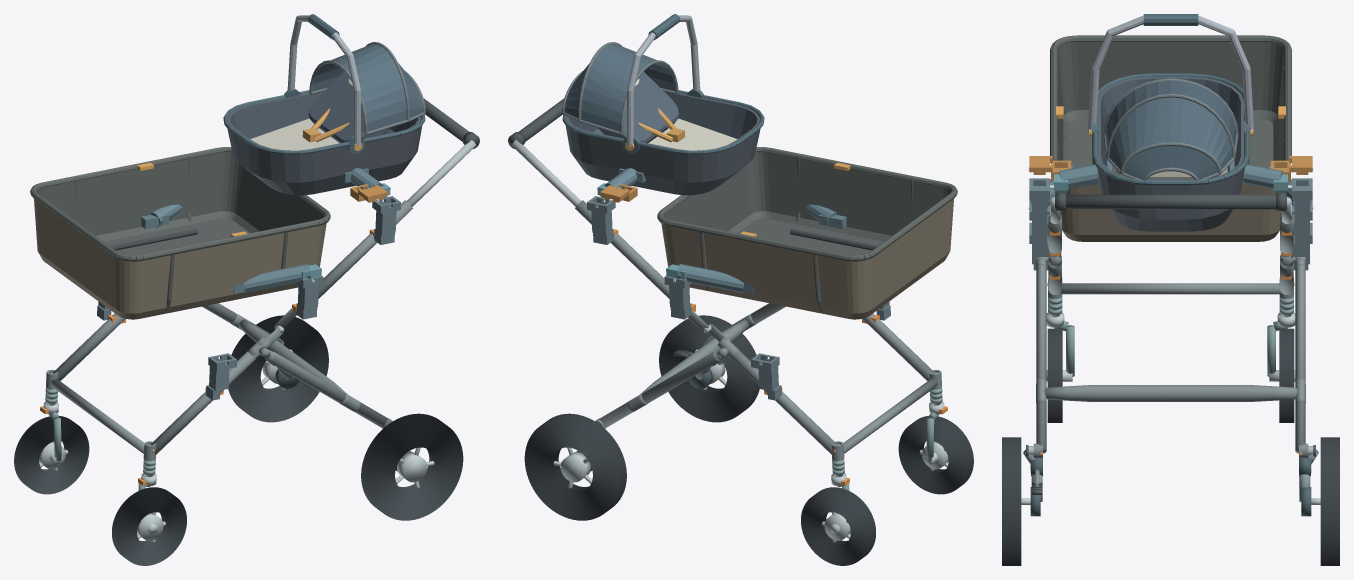
Rendered from D19_w650_state1_wheel_M.glb.
3 renders of one model, left to right at view 1: azimuth 30°, elevation 25°; view 2: azimuth 150°, elevation 25°; view 3: azimuth 270°, elevation 25°, orthographic. The views are drawn at different scales.
Visible parts, largest first — view 1: D19_Lower, D19_Upper, RL_tire.008, RR_tire.008, FL_tire.008, FR_tire.008, D19_Lower_Mount_M, V46_rear_leg_-1.009, main_lower_-1.009, front_fixed_round_tube.008, main_upper_-1.009, Universal_Cabin_Receiver_H_-1 (+7 smaller); view 2: D19_Lower, D19_Upper, RR_tire.008, RL_tire.008, FR_tire.008, FL_tire.008, D19_Lower_Mount_M, V46_rear_leg_1.009, main_lower_1.009, front_fixed_round_tube.008, main_upper_1.009, Universal_Cabin_Receiver_H_1 (+7 smaller); view 3: D19_Upper, D19_Lower, V46_rearbar.009, round_handle.008, front_fixed_round_tube.008, RL_tire.008, RR_tire.008, D19_Upper_Mount_H, V46_rear_leg_1.009, V46_rear_leg_-1.009, FL_tire.008, FR_tire.008 (+8 smaller).
Part boxes in pixels (box(x1,y1,x2,y2)): D19_Lower: box(30, 147, 330, 319); D19_Upper: box(223, 14, 425, 195); RL_tire.008: box(361, 413, 463, 520); RR_tire.008: box(228, 315, 328, 422); FL_tire.008: box(112, 487, 186, 565); FR_tire.008: box(14, 416, 89, 494); D19_Lower_Mount_M: box(141, 204, 321, 293); V46_rear_leg_-1.009: box(267, 351, 388, 428); main_lower_-1.009: box(150, 351, 258, 454); front_fixed_round_tube.008: box(50, 379, 144, 453); main_upper_-1.009: box(318, 200, 412, 298); Universal_Cabin_Receiver_H_-1: box(372, 196, 401, 244); D19_Lower: box(657, 147, 957, 319); D19_Upper: box(562, 14, 764, 195); RR_tire.008: box(524, 413, 626, 520); RL_tire.008: box(659, 315, 759, 422); FR_tire.008: box(801, 487, 875, 565); FL_tire.008: box(898, 416, 973, 494); D19_Lower_Mount_M: box(666, 204, 846, 293); V46_rear_leg_1.009: box(599, 351, 720, 428); main_lower_1.009: box(729, 351, 837, 454); front_fixed_round_tube.008: box(843, 379, 937, 453); main_upper_1.009: box(575, 200, 669, 298); Universal_Cabin_Receiver_H_1: box(586, 196, 615, 244); D19_Upper: box(1087, 14, 1254, 231); D19_Lower: box(1050, 35, 1291, 241); V46_rearbar.009: box(1044, 385, 1297, 401); round_handle.008: box(1055, 194, 1286, 209); front_fixed_round_tube.008: box(1060, 283, 1281, 294); RL_tire.008: box(1002, 437, 1021, 565); RR_tire.008: box(1320, 437, 1339, 565); D19_Upper_Mount_H: box(1050, 160, 1291, 193); V46_rear_leg_1.009: box(1295, 264, 1305, 453); V46_rear_leg_-1.009: box(1036, 264, 1046, 453); FL_tire.008: box(1047, 328, 1062, 422); FR_tire.008: box(1279, 328, 1294, 422).
Size of the model in its own units: 1.16 by 1.37 by 0.7871.
